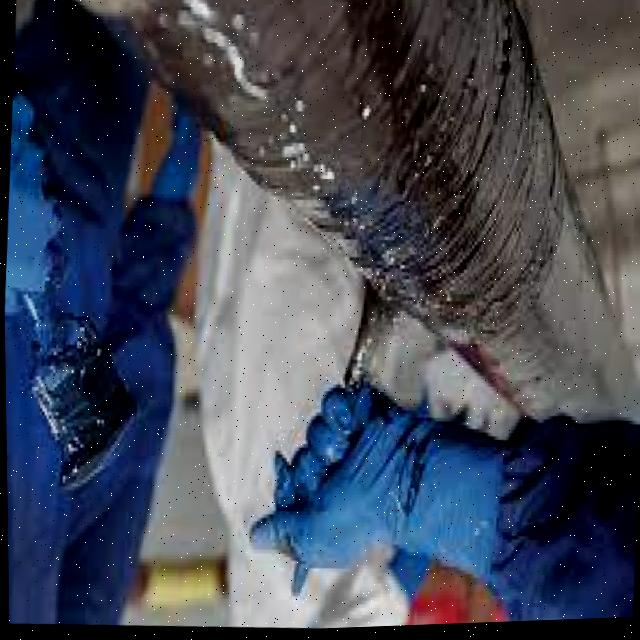corrosion: (269, 185, 460, 472)
